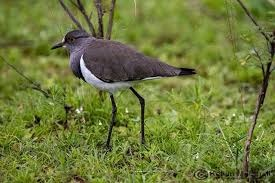bird: (48, 28, 200, 150)
